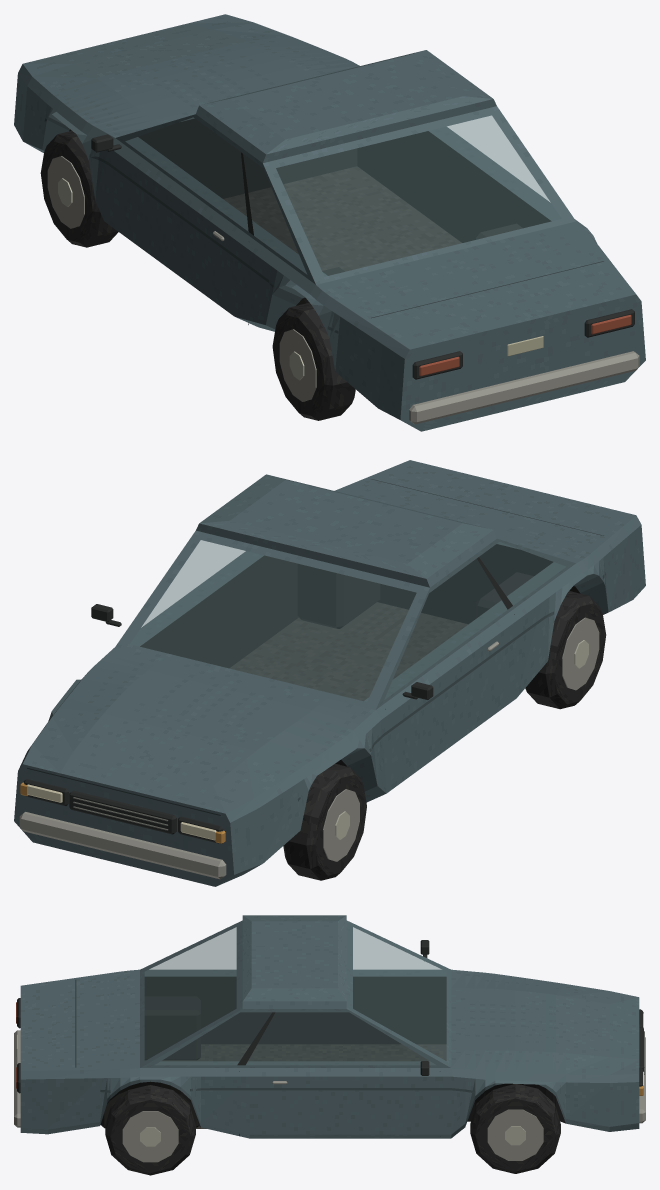
Rendered from vehicle_coupe.glb.
3 views of the same model, one above another, from view 1: azimuth 30°, elevation 25°; view 2: azimuth 150°, elevation 25°; view 3: azimuth 270°, elevation 25° (orthographic). The views are drawn at different scales.
Visible parts, largest first — view 1: closed_body, glazing, roof_body; view 2: closed_body, glazing, roof_body; view 3: closed_body, glazing, roof_body.
Part boxes in pixels (left/top/right/bottom): closed_body: left=14, top=14, right=645, bottom=431; glazing: left=125, top=115, right=561, bottom=276; roof_body: left=196, top=50, right=496, bottom=162; closed_body: left=14, top=460, right=645, bottom=886; glazing: left=130, top=540, right=565, bottom=701; roof_body: left=196, top=474, right=496, bottom=587; closed_body: left=14, top=920, right=645, bottom=1175; glazing: left=144, top=927, right=446, bottom=1065; roof_body: left=242, top=915, right=346, bottom=1008.
Bounding box in the file's own units: 2.13 × 1.32 × 4.45.
2 materials, 2 textured.
